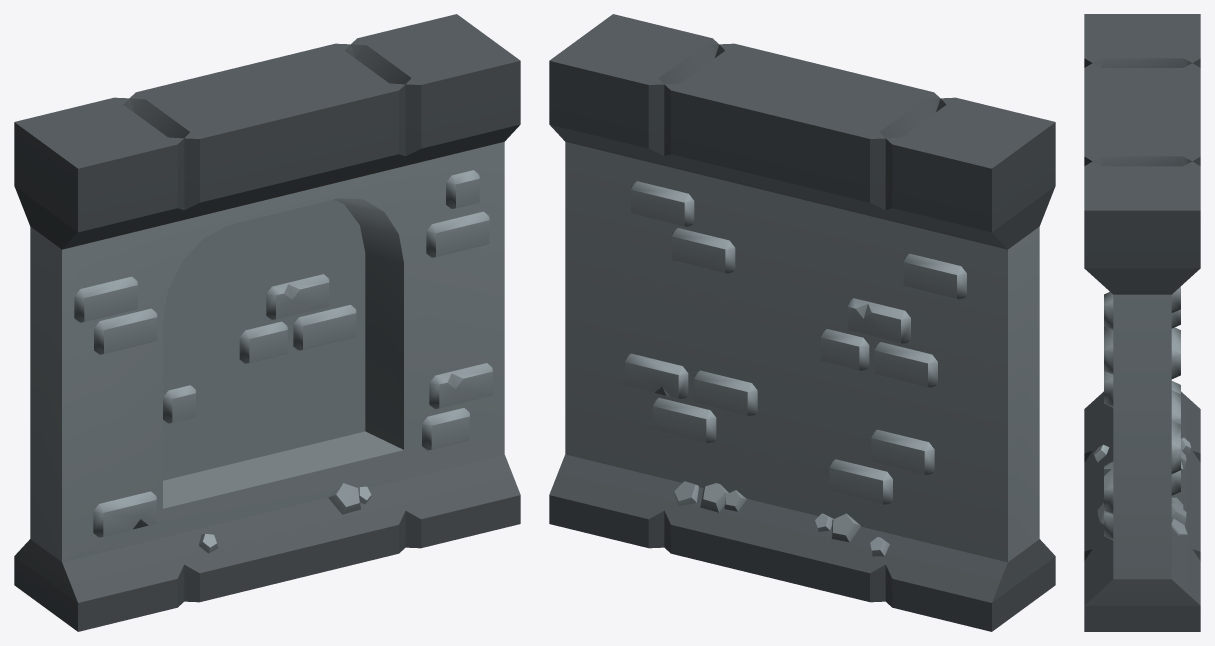
Rendered from wall_inset.glb.
The picture shows the model from 3 angles, left to right: view 1: azimuth 30°, elevation 25°; view 2: azimuth 150°, elevation 25°; view 3: azimuth 270°, elevation 25°; orthographic projection. The views are drawn at different scales.
Parts seen in each view (by area): view 1: wall_inset; view 2: wall_inset; view 3: wall_inset.
Boxes of the visible parts, x1=… form: wall_inset: x1=14, y1=14, x2=520, y2=631; wall_inset: x1=549, y1=14, x2=1055, y2=631; wall_inset: x1=1084, y1=14, x2=1200, y2=631.
Size of the model in its own units: 4 by 4 by 1.
Materials: 1 (1 with a texture image).
